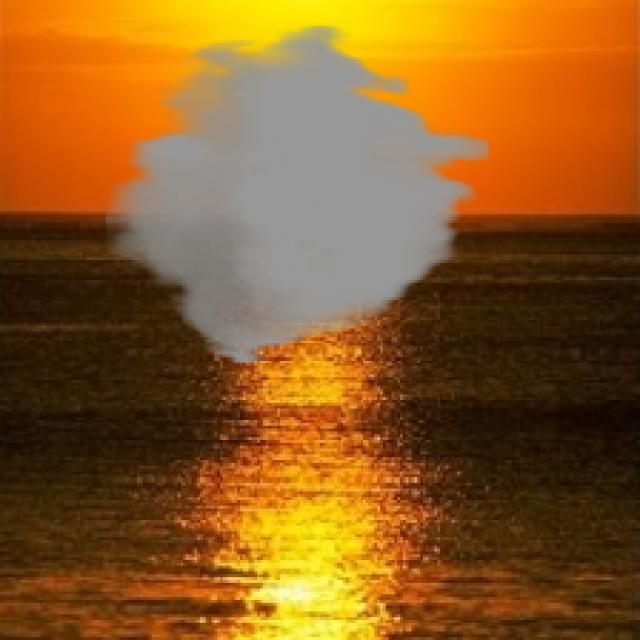smoke: (106, 23, 488, 366)
